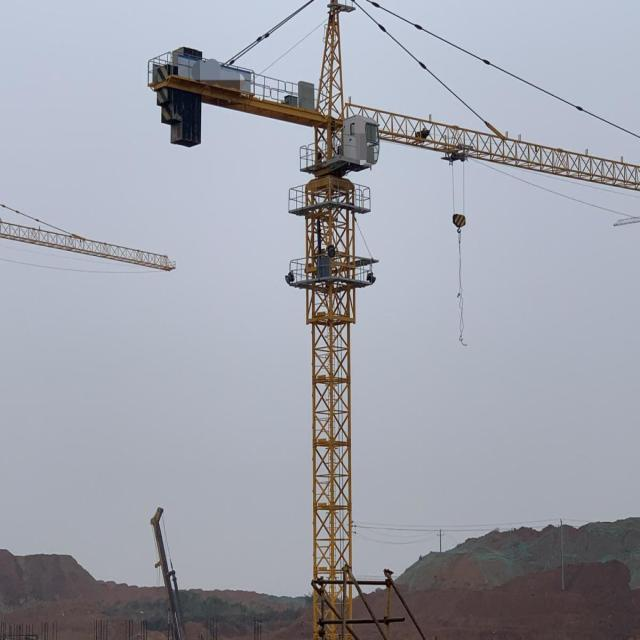crane: (149, 7, 640, 640), (0, 194, 183, 283), (135, 497, 200, 640)
